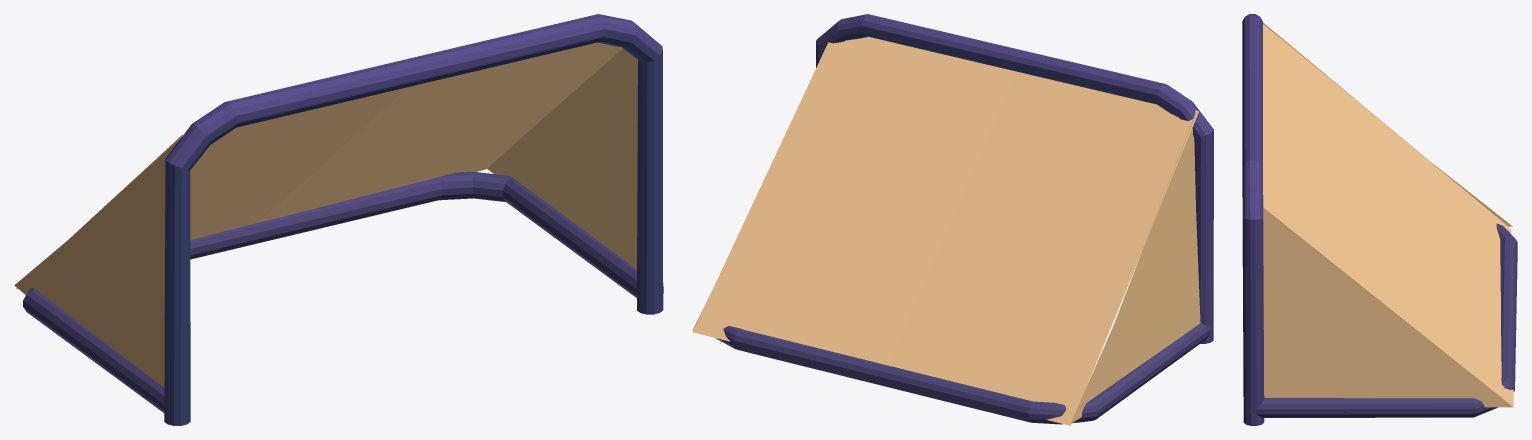
The model's file is gawanggggggggggggggggggggggggggggg.fbx.
3 renders of one model, left to right at view 1: azimuth 30°, elevation 25°; view 2: azimuth 150°, elevation 25°; view 3: azimuth 270°, elevation 25°, orthographic. The views are drawn at different scales.
Visible parts, largest first — view 1: Plane.003, Plane, Plane.002, Plane.001; view 2: Plane.003, Plane.002, Plane.001, Plane; view 3: Plane.003, Plane.001, Plane.002, Plane.
Boxes of the visible parts, left/top/right/bottom form: Plane.003: left=14, top=42, right=637, bottom=387; Plane: left=164, top=30, right=663, bottom=425; Plane.002: left=23, top=171, right=663, bottom=412; Plane.001: left=164, top=14, right=663, bottom=422; Plane.003: left=692, top=37, right=1200, bottom=425; Plane.002: left=716, top=323, right=1212, bottom=424; Plane.001: left=816, top=14, right=1213, bottom=342; Plane: left=823, top=27, right=1213, bottom=343; Plane.003: left=1263, top=22, right=1513, bottom=407; Plane.001: left=1242, top=14, right=1264, bottom=424; Plane.002: left=1250, top=223, right=1517, bottom=417; Plane: left=1242, top=192, right=1264, bottom=425.
Bounding box in the file's own units: 346 × 207 × 212.
